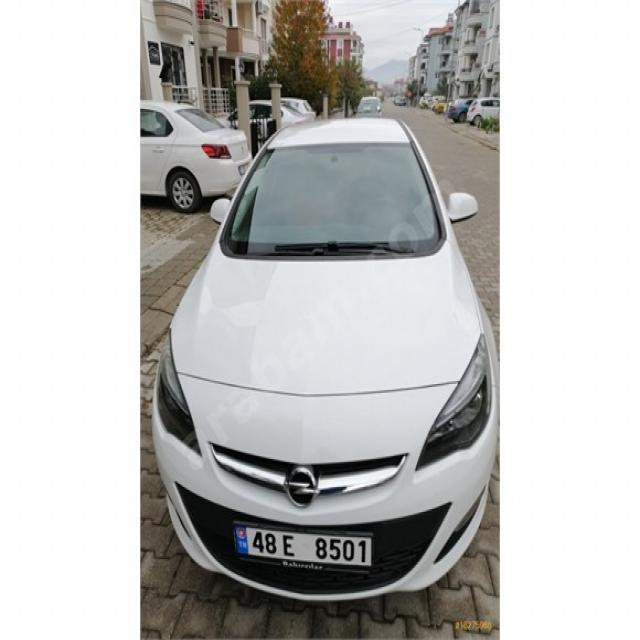plate: (235, 519, 375, 579)
